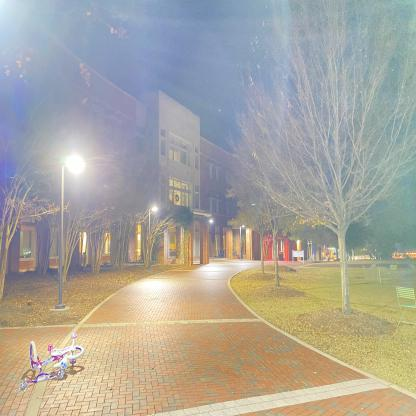eb2: (0, 8, 317, 260)
